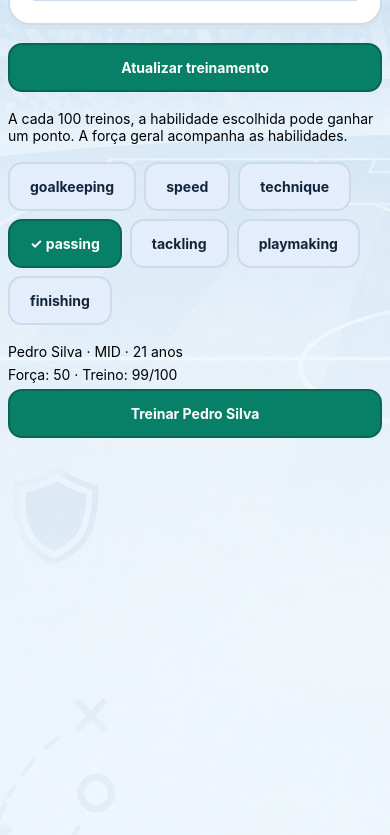
training uses server strength and reloads after each valid click
(page scrolled)
Expected: the text "Força: 50 · Treino: 99/100" is shown, [8,366,177,383]
Click the button "Treinar Pedro Silva".
click(195, 414)  # box [8,389,382,438]
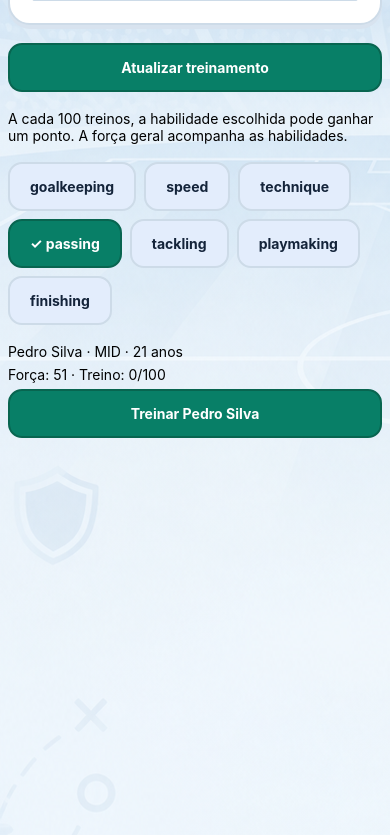
Expected: the text "Força: 51 · Treino: 0/100" is shown, [8,366,166,383]
